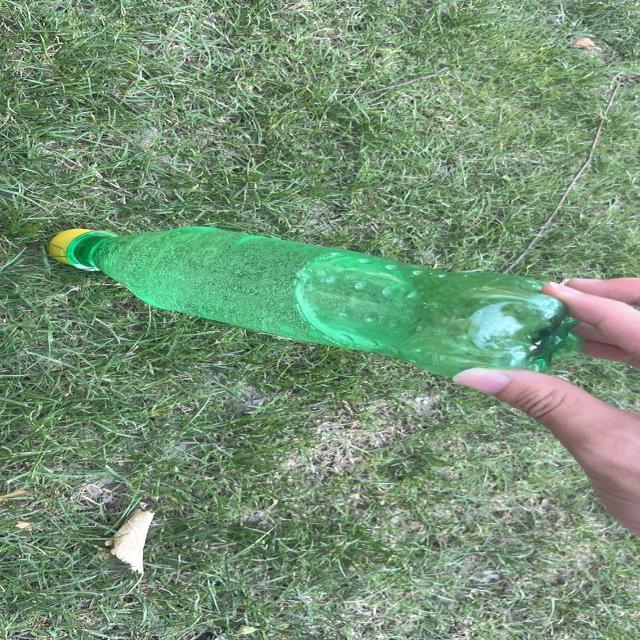medium: (48, 227, 580, 376)
